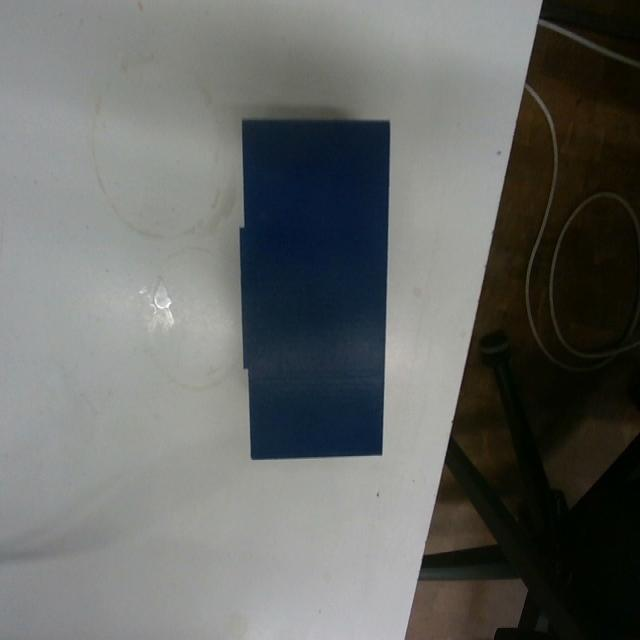Blue Cuboid: (237, 115, 391, 461)
